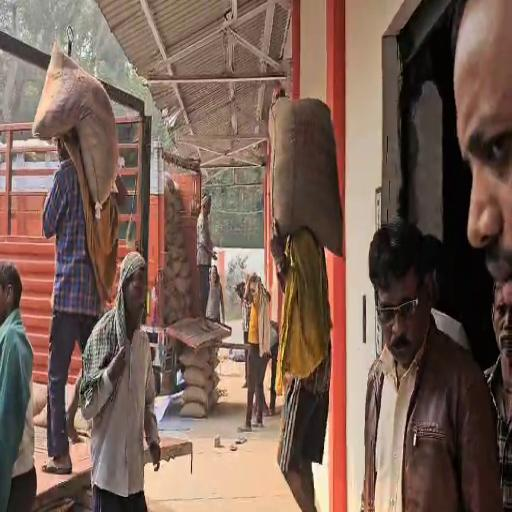bag: (30, 38, 120, 217), (266, 93, 346, 260)
